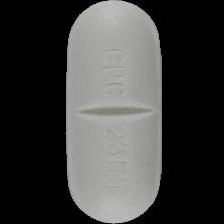64980-104: (0, 0, 224, 224)
